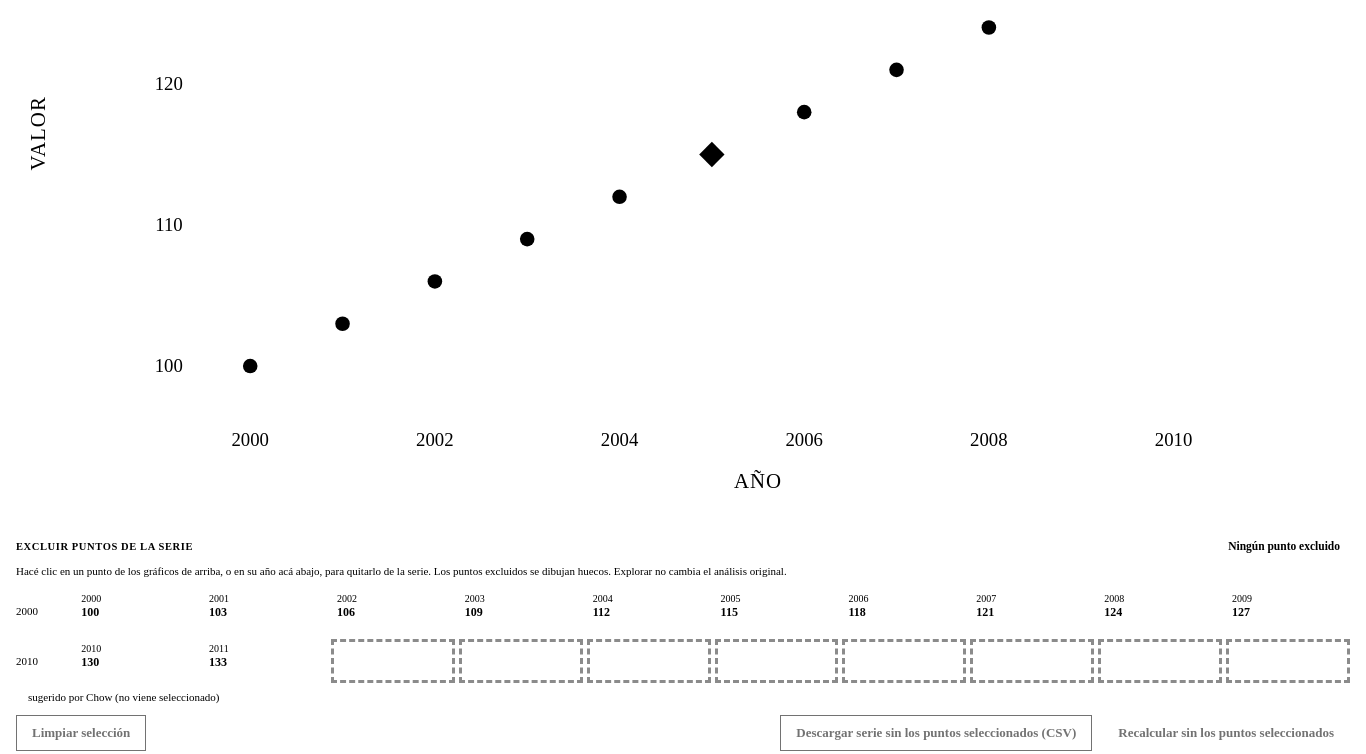
Scenario: Etapa1GraficosView — recalcular sin los puntos (A2) › no permite recalcular si quedarían menos de 10 datos
(page scrolled)
Click the button "2000 100" at (137,611), box x1=75 y1=589 x2=199 y2=633
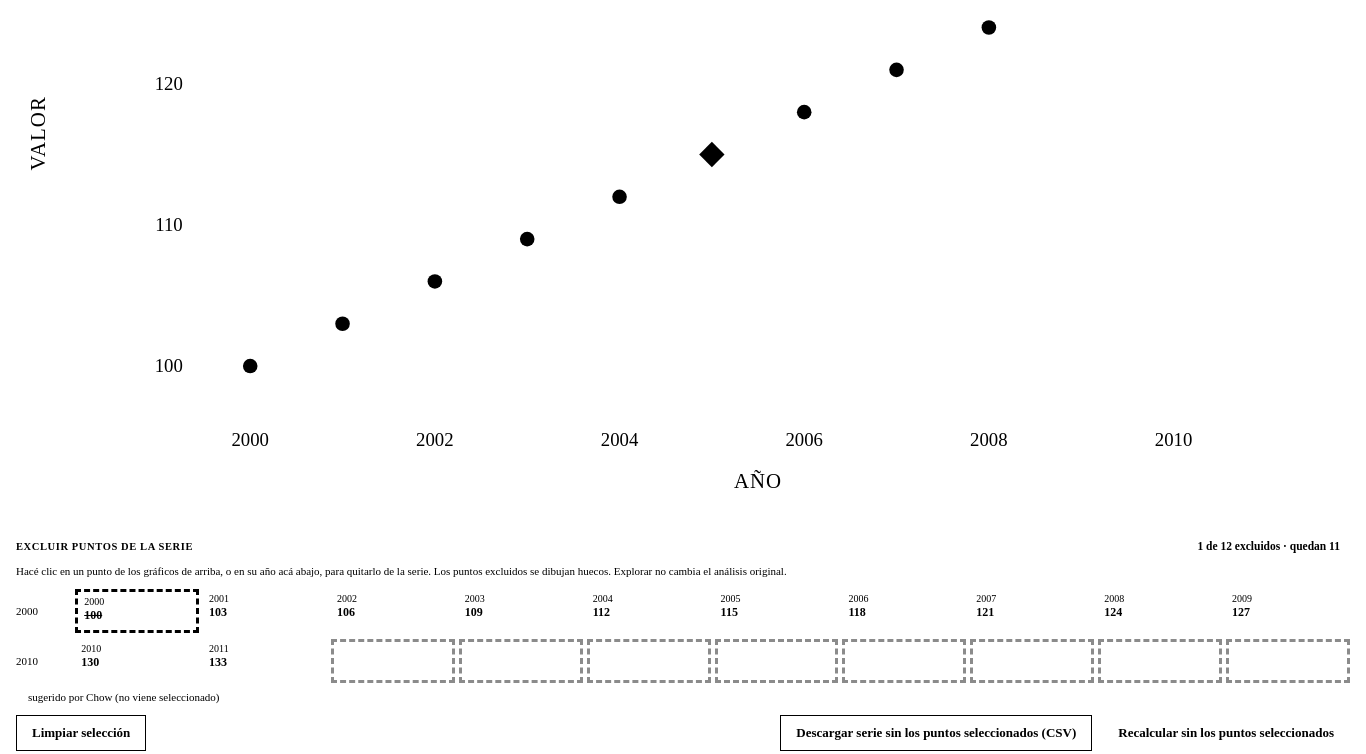
Click the button "2001 103" at (265,611), box x1=203 y1=589 x2=327 y2=633
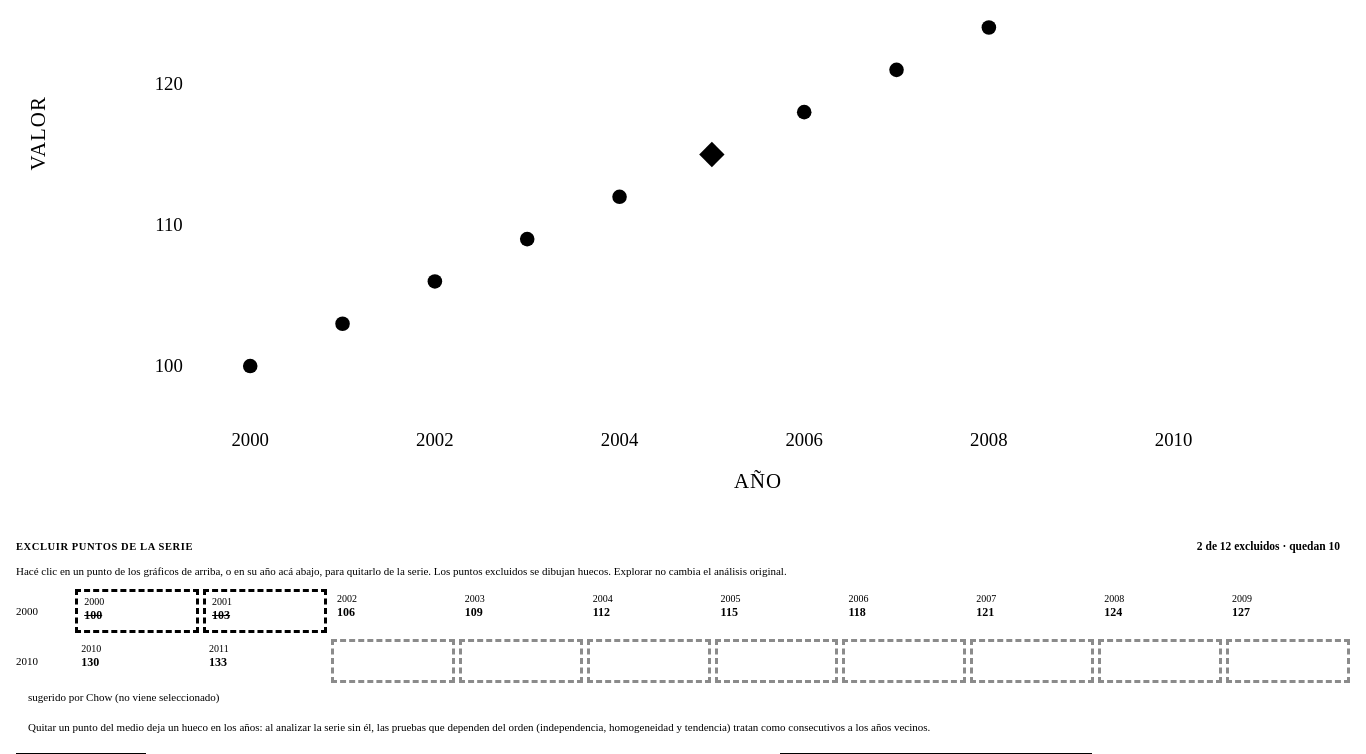
Click the button "2002 106" at (393,611), box x1=331 y1=589 x2=455 y2=633
(page scrolled)
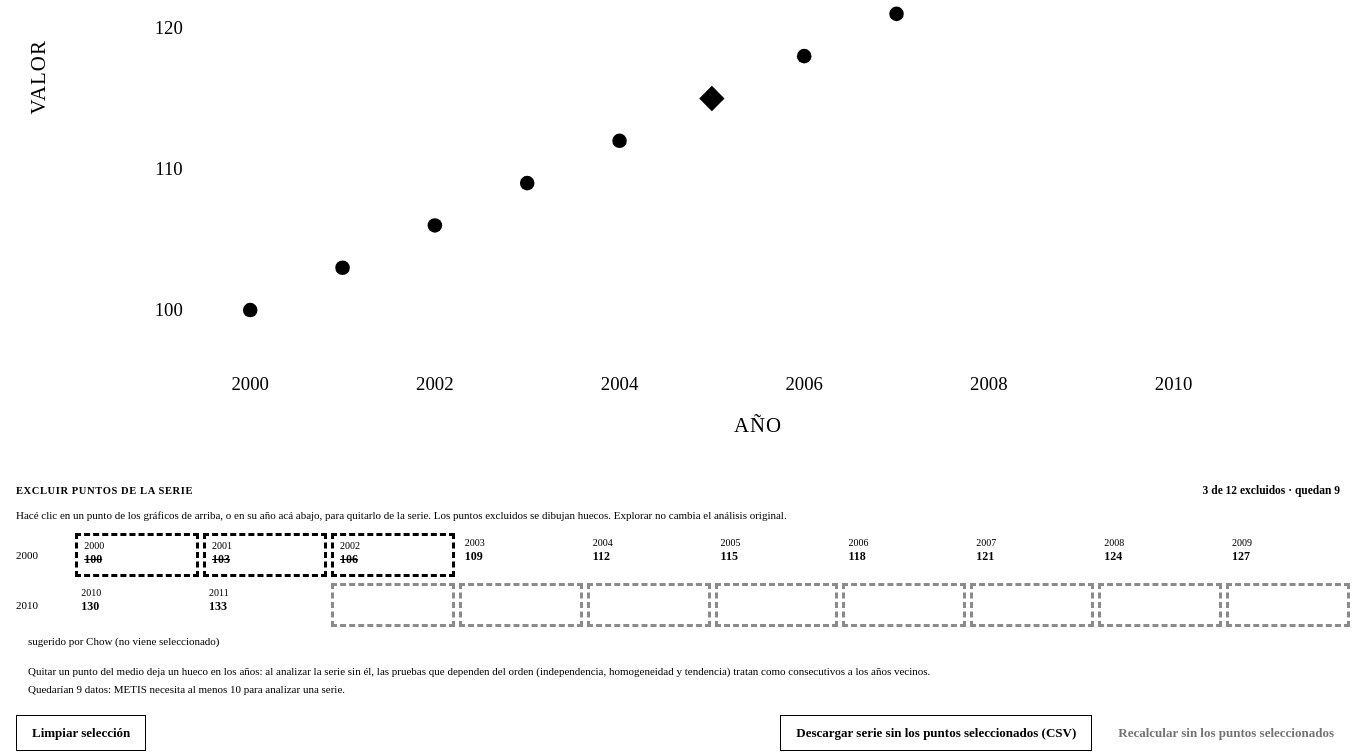
Expected: the button "Recalcular sin los puntos seleccionados" is disabled, x1=1102 y1=715 x2=1350 y2=751
